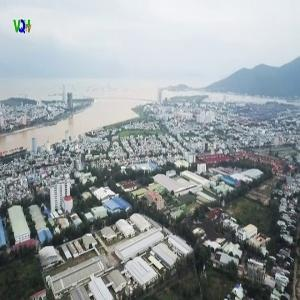drone: (138, 153, 285, 300)
